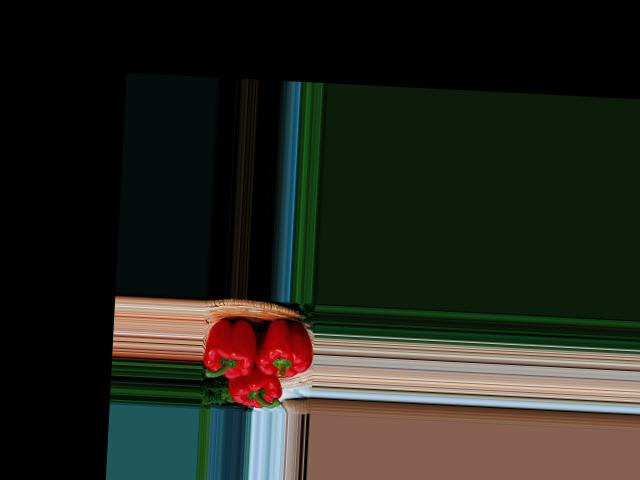bell_pepper: (203, 310, 265, 381)
